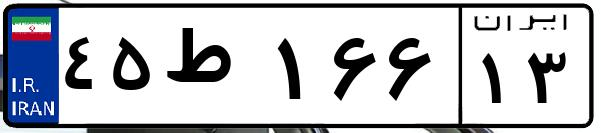1: (270, 28, 330, 110), (475, 38, 525, 113)
3: (525, 38, 570, 115)
4: (57, 26, 110, 100)
5: (110, 28, 158, 98)
6: (385, 28, 445, 110), (330, 28, 385, 110)
ط: (158, 20, 270, 120)
